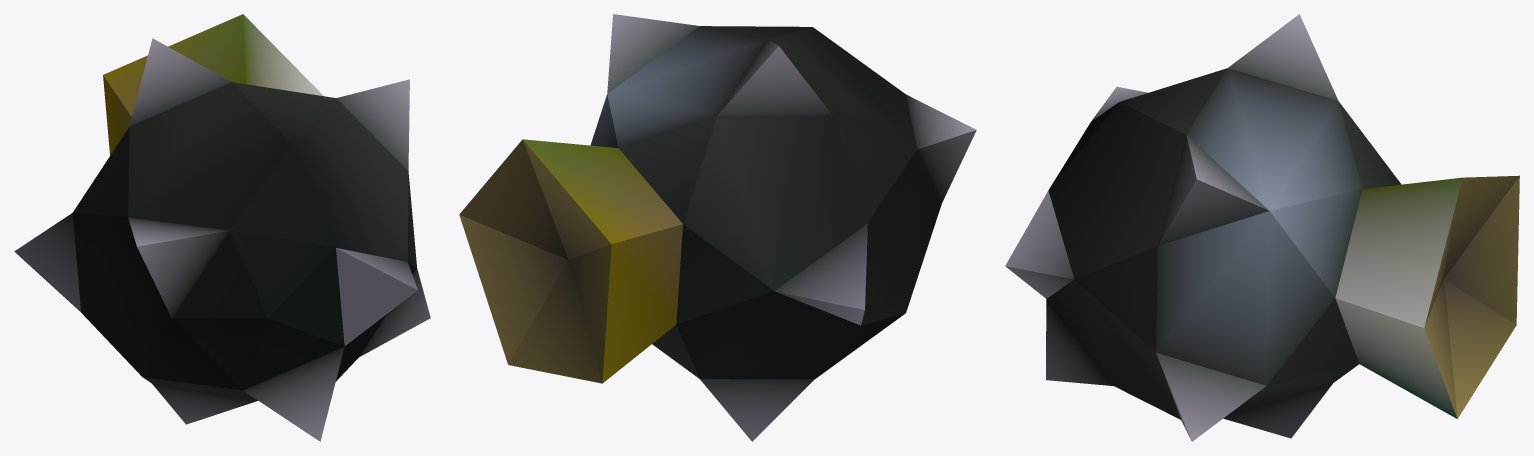
Rendered from jvaa.hrc.gltf.
The picture shows the model from 3 angles, left to right: view 1: azimuth 30°, elevation 25°; view 2: azimuth 150°, elevation 25°; view 3: azimuth 270°, elevation 25°; orthographic projection. The views are drawn at different scales.
Visible parts, largest first — view 1: jvaaBone0_0; view 2: jvaaBone0_0; view 3: jvaaBone0_0.
Boxes of the visible parts, left/top/right/bottom form: jvaaBone0_0: left=14, top=14, right=430, bottom=441; jvaaBone0_0: left=459, top=14, right=976, bottom=441; jvaaBone0_0: left=1005, top=14, right=1519, bottom=441.
Size of the model in its own units: 646 by 673 by 767.
